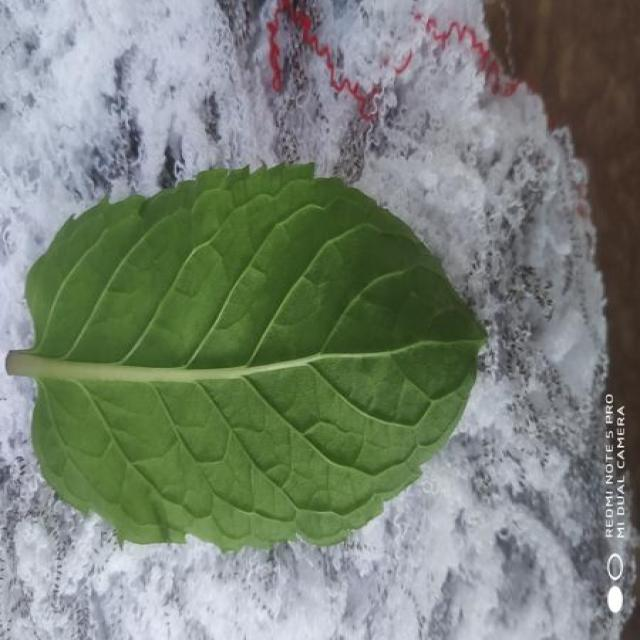mint: (7, 165, 485, 550)
